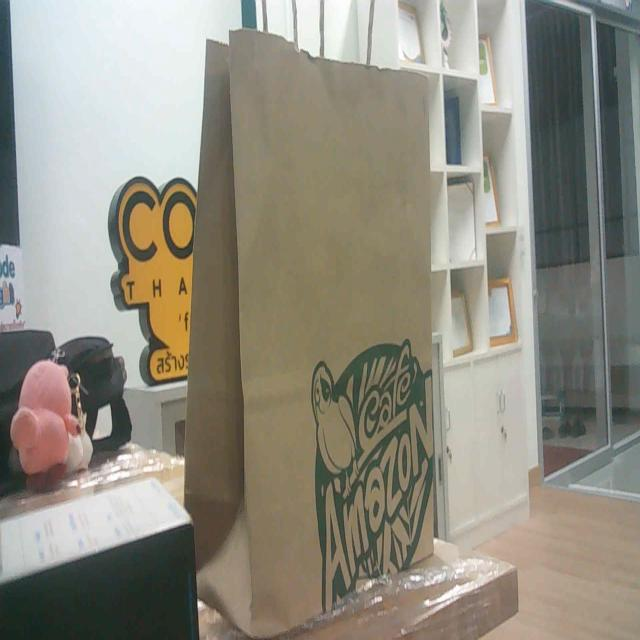bag: (162, 16, 444, 640)
